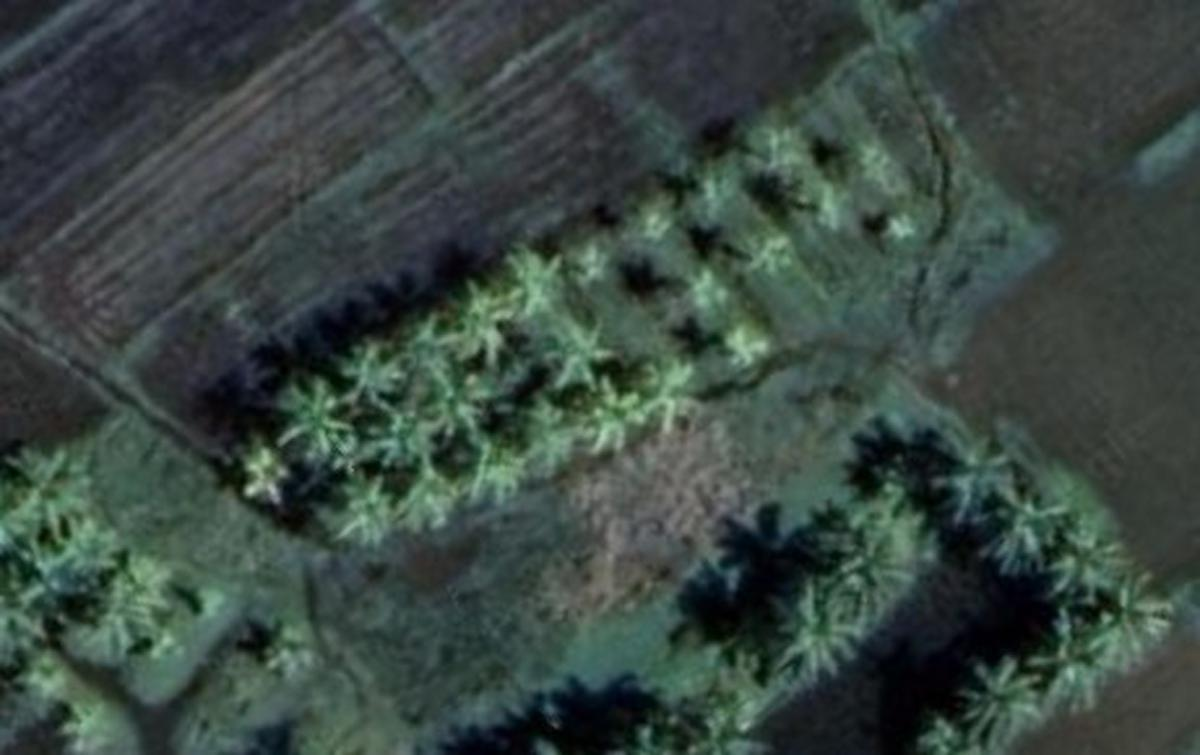coconut: (762, 580, 853, 679), (822, 502, 924, 580), (926, 450, 1002, 551), (1095, 562, 1179, 650), (640, 351, 713, 437), (994, 489, 1067, 575), (273, 372, 348, 455), (1033, 630, 1106, 715), (957, 666, 1033, 747), (450, 283, 528, 351), (255, 617, 330, 687), (465, 437, 538, 507), (546, 328, 616, 398), (1049, 525, 1111, 601), (330, 479, 398, 546), (416, 372, 486, 434), (346, 346, 411, 411), (570, 382, 632, 450), (403, 471, 465, 538), (234, 450, 294, 505), (676, 270, 734, 325), (747, 234, 804, 288), (635, 192, 692, 242), (718, 322, 765, 374), (856, 151, 898, 197), (882, 213, 918, 257)
